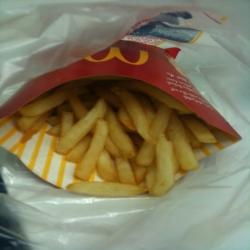fries: (28, 80, 210, 192)
